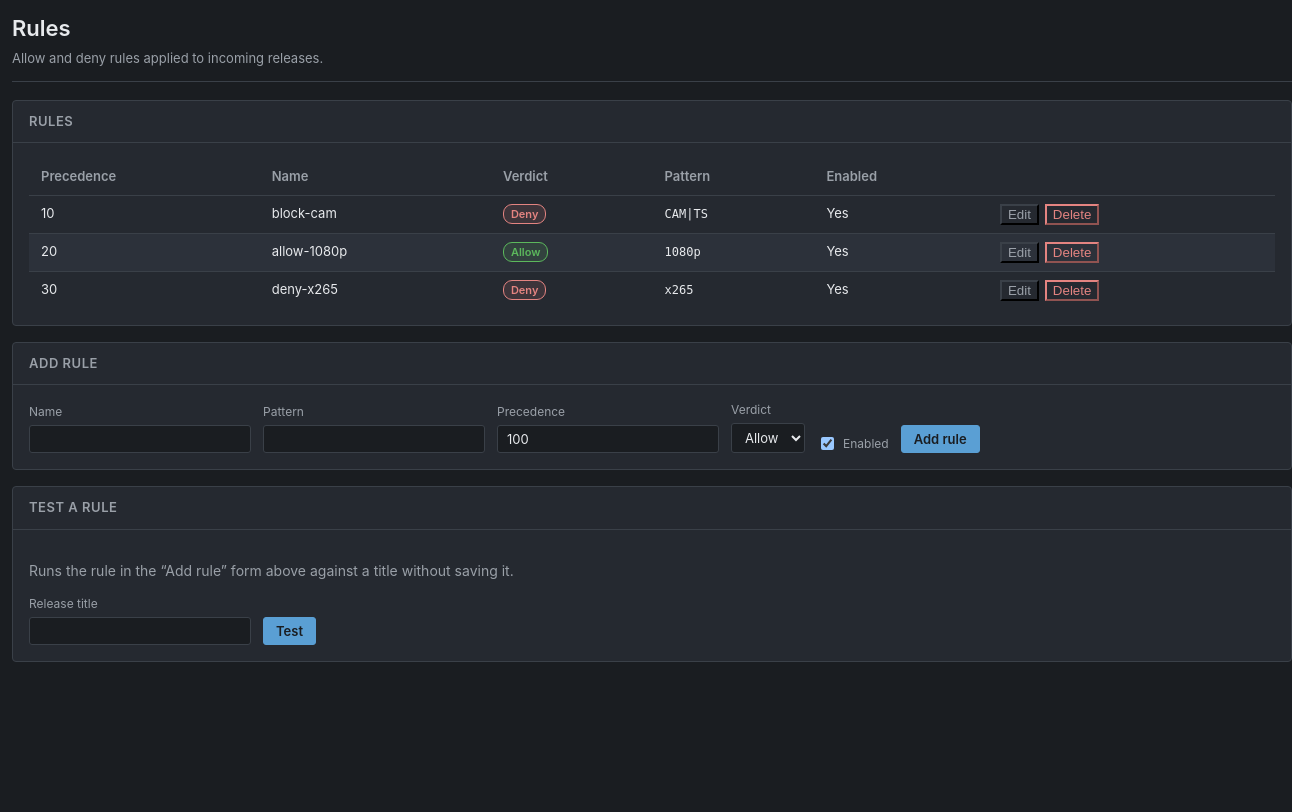
Scenario: Rules › renders a refused delete in its own row, and nowhere else
Expected: the text "block-cam" is shown, x1=260 y1=195 x2=491 y2=233
Click the button with aria-label "Delete block-cam".
click(1072, 214)  # box x1=1045 y1=204 x2=1099 y2=224
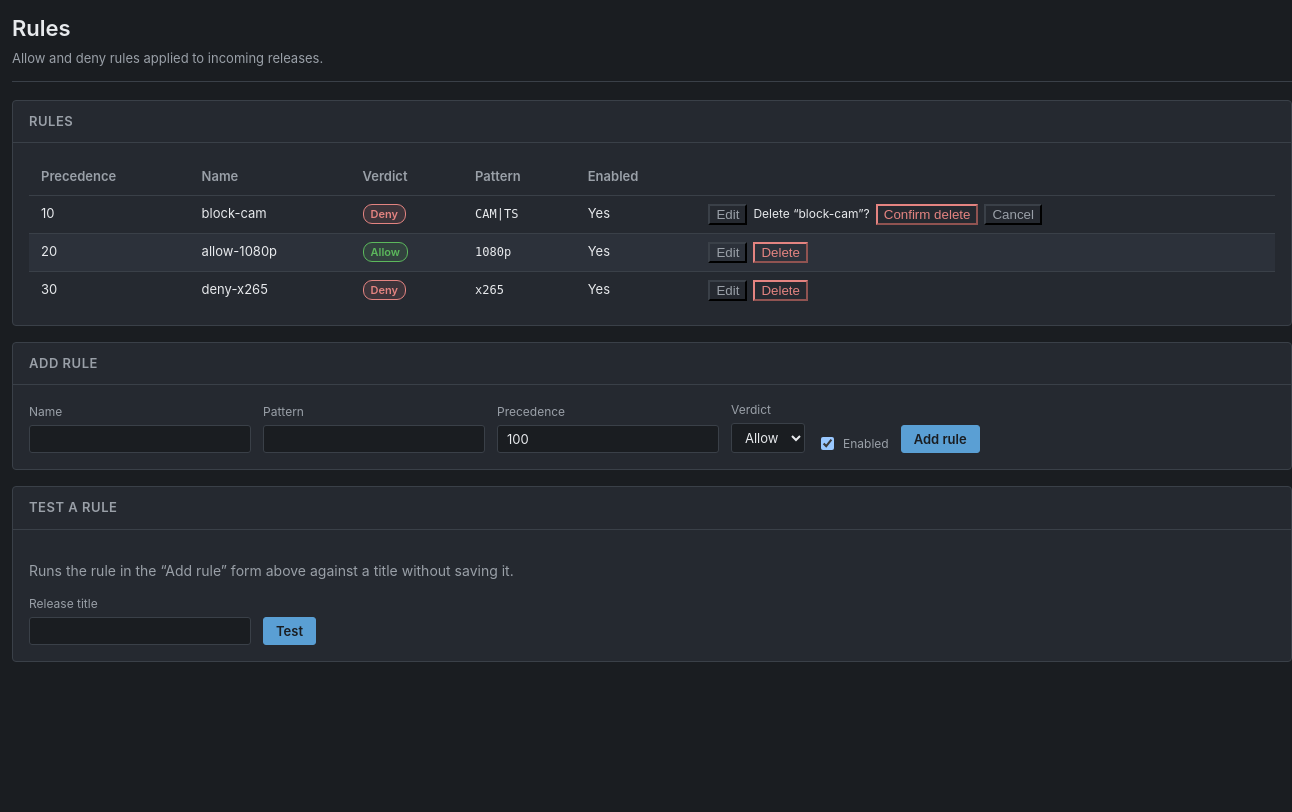
Click the button with aria-label "Confirm delete block-cam".
click(927, 214)  # box x1=876 y1=204 x2=978 y2=224
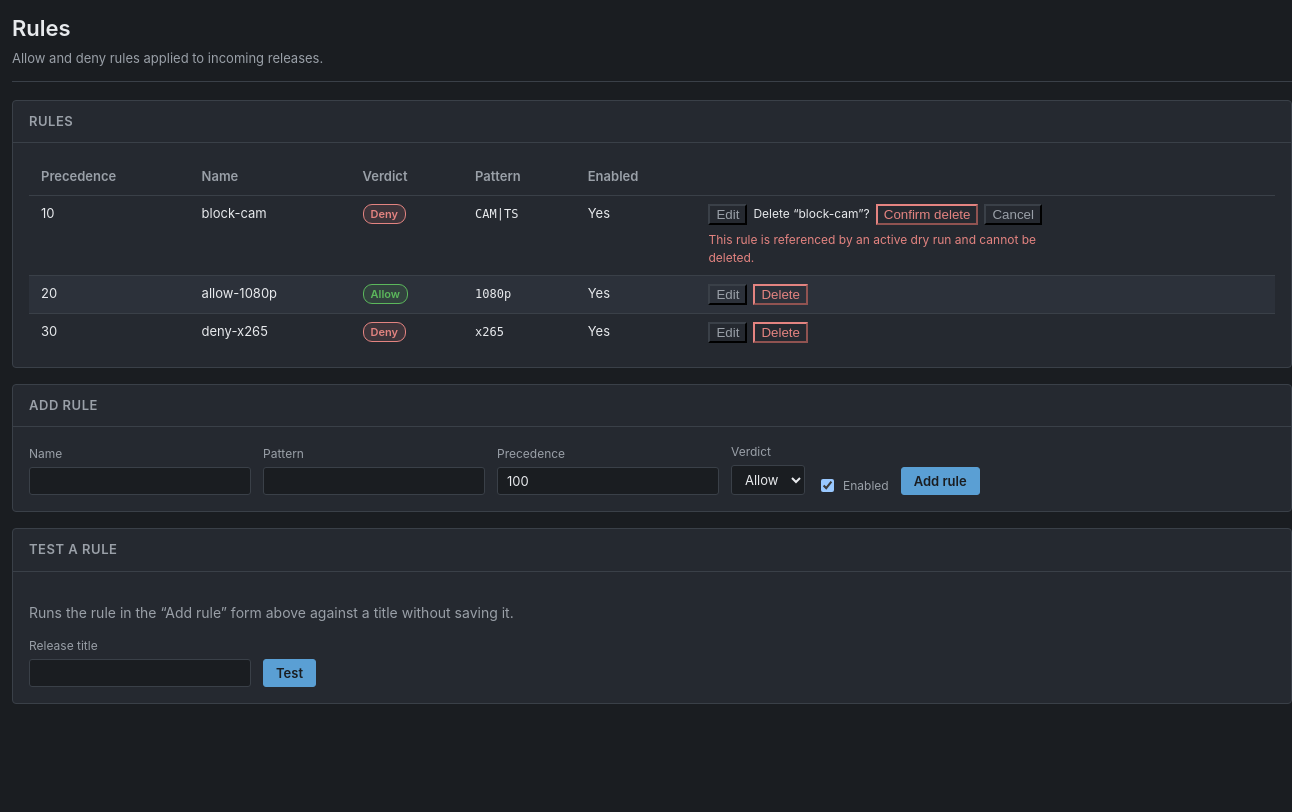
Expected: the text "block-cam" is shown, x1=190 y1=195 x2=351 y2=275
Expected: the text "This rule is referenced by an active dry run and cannot be deleted." is shown once, x1=708 y1=230 x2=1042 y2=266
